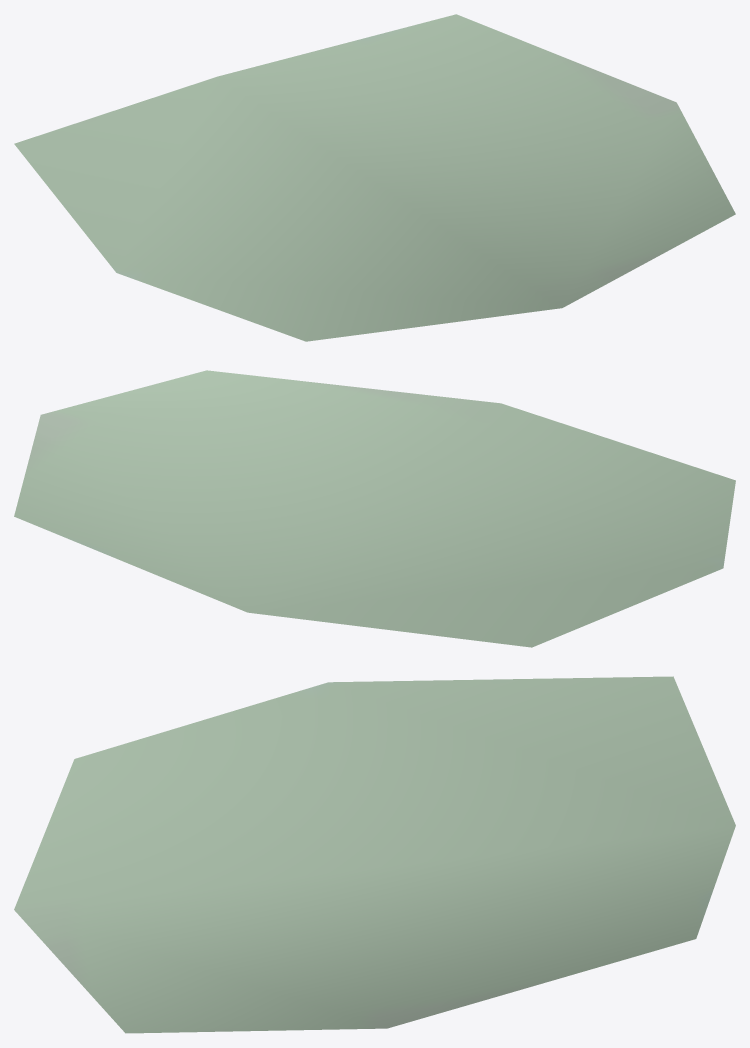
File: TROLLHOLE02_HOLECAP66.fbx
The picture shows the model from 3 angles, top to bottom: view 1: azimuth 30°, elevation 25°; view 2: azimuth 150°, elevation 25°; view 3: azimuth 270°, elevation 25°; orthographic projection. The views are drawn at different scales.
Visible parts, largest first — view 1: TROLLHOLE02_HOLECAP66; view 2: TROLLHOLE02_HOLECAP66; view 3: TROLLHOLE02_HOLECAP66.
Part boxes in pixels (<box>): TROLLHOLE02_HOLECAP66: <box>14,14,735,341</box>; TROLLHOLE02_HOLECAP66: <box>14,370,735,647</box>; TROLLHOLE02_HOLECAP66: <box>14,676,735,1033</box>.
Size of the model in its own units: 23608 by 2194 by 19987.
Materials: 1 (1 with a texture image).
